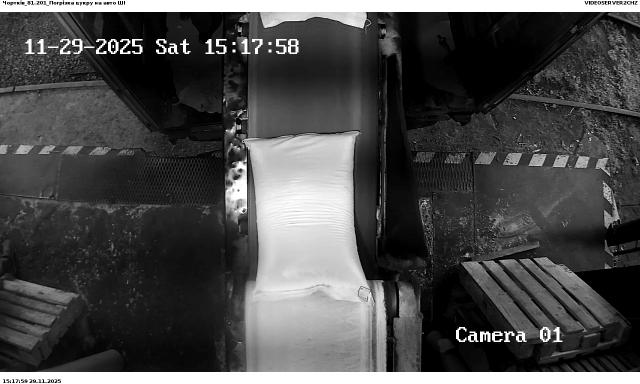bag: (243, 131, 375, 304), (260, 12, 371, 28)
